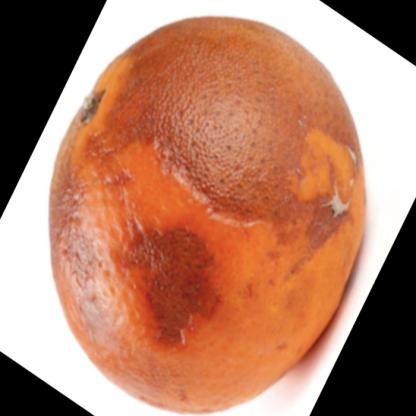rotten: (50, 18, 367, 412)
